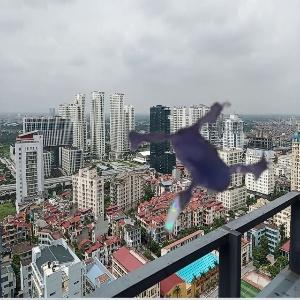drone: (69, 72, 296, 299)
